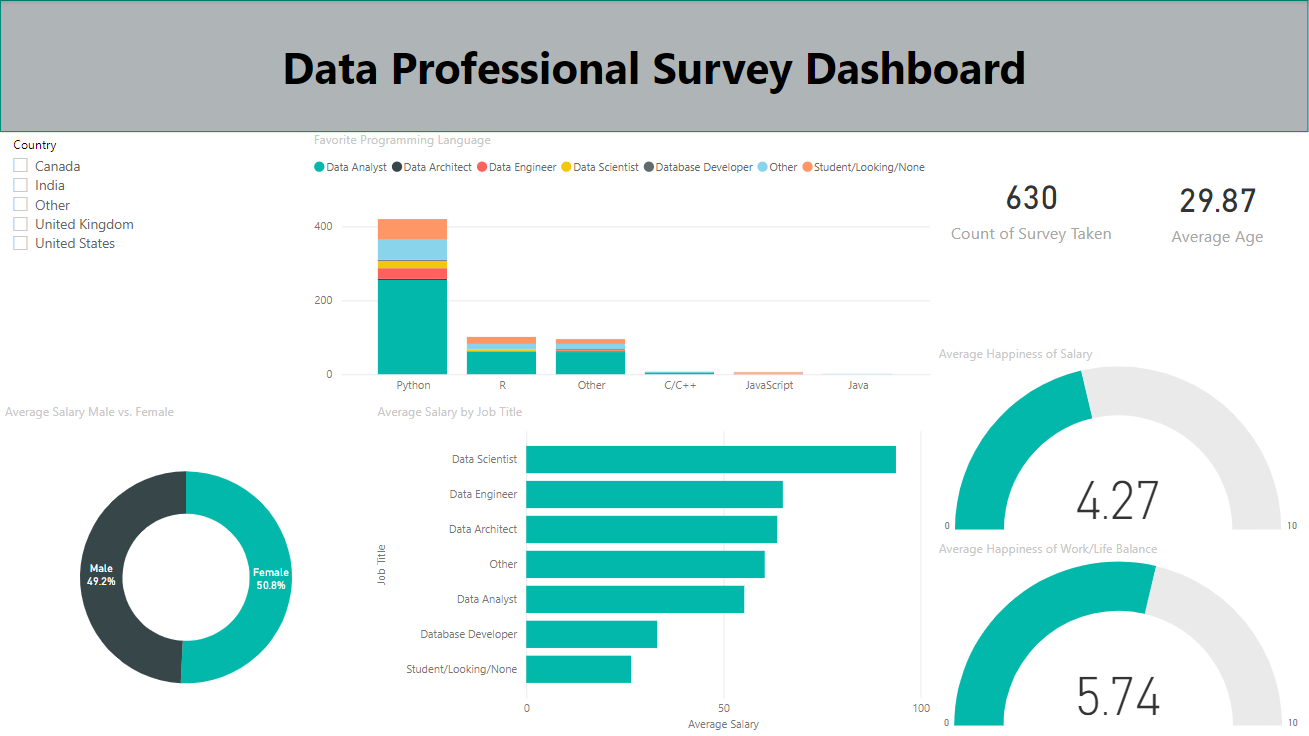

The dashboard page shown, as its layout file describes it:
{"tool":"powerbi","page":{"name":"Page 1","canvas":[1280,720],"ordinal":0},"visuals":[{"type":"shape","title":"Data","box":[0,0,1280,129.2],"z":0},{"type":"card","fields":{"Values":["CountNonNull(Data Professional Survey.Unique ID)"]},"box":[914.7,128.2,188.9,145.7],"z":1000},{"type":"card","fields":{"Values":["Avg(Data Professional Survey.Q10 - Current Age)"]},"box":[1103.5,129.5,176.7,149.7],"z":1001},{"type":"barChart","title":"Average Salary by Job Title","fields":{"Category":["Data Professional Survey.Q1 - Which Title Best Fits your Current Role?.1"],"Y":["Avg(Data Professional Survey.Average Salary)"]},"box":[364.4,393.8,550.3,326.5],"z":1002},{"type":"columnChart","title":"Favorite Programming Language","fields":{"Y":["CountNonNull(Data Professional Survey.Unique ID)"],"Category":["Data Professional Survey.Q5 - Favorite Programming Language.1"],"Series":["Data Professional Survey.Q1 - Which Title Best Fits your Current Role?.1"]},"box":[302,128.4,612.6,265.4],"z":1003},{"type":"gauge","title":"Average Happiness of Salary","fields":{"Y":["Avg(Data Professional Survey.Q6 - How Happy are you in your Current Position with the following? (Salary))"],"MinValue":["Min(Data Professional Survey.Q6 - How Happy are you in your Current Position with the following? (Salary))"],"MaxValue":["Max(Data Professional Survey.Q6 - How Happy are you in your Current Position with the following? (Salary))"]},"box":[914,338,366.4,190.6],"z":1004},{"type":"gauge","title":"Average Happiness of Work/Life Balance","fields":{"Y":["Avg(Data Professional Survey.Q6 - How Happy are you in your Current Position with the following? (Work/Life Balance))"],"MinValue":["Min(Data Professional Survey.Q6 - How Happy are you in your Current Position with the following? (Work/Life Balance))"],"MaxValue":["Max(Data Professional Survey.Q6 - How Happy are you in your Current Position with the following? (Work/Life Balance))"]},"box":[914,528.7,366.4,192],"z":1005},{"type":"donutChart","title":"Average Salary Male vs. Female","fields":{"Y":["Avg(Data Professional Survey.Average Salary)"],"Category":["Data Professional Survey.Q9 - Male/Female?"]},"box":[0,393.8,364.4,326.5],"z":1006},{"type":"slicer","fields":{"Values":["Data Professional Survey.Q11 - Which Country do you live in?.1"]},"box":[0,128.4,302,209.1],"z":1007}]}

Visuals, with their boxes in screenshot pixels (x1, y1, x2, y2), scaled from the page's 1280x720 canvas onto the 1309x736 screenshot:
"Data" shape: (0, 0, 1308, 132)
card - CountNonNull(Data Professional Survey.Unique ID): (935, 131, 1129, 280)
card - Avg(Data Professional Survey.Q10 - Current Age): (1129, 132, 1308, 285)
"Average Salary by Job Title" barChart: (373, 403, 935, 735)
"Favorite Programming Language" columnChart: (309, 131, 935, 403)
"Average Happiness of Salary" gauge: (935, 346, 1308, 540)
"Average Happiness of Work/Life Balance" gauge: (935, 540, 1308, 735)
"Average Salary Male vs. Female" donutChart: (0, 403, 373, 735)
slicer - Data Professional Survey.Q11 - Which Country do you live in?.1: (0, 131, 309, 345)
